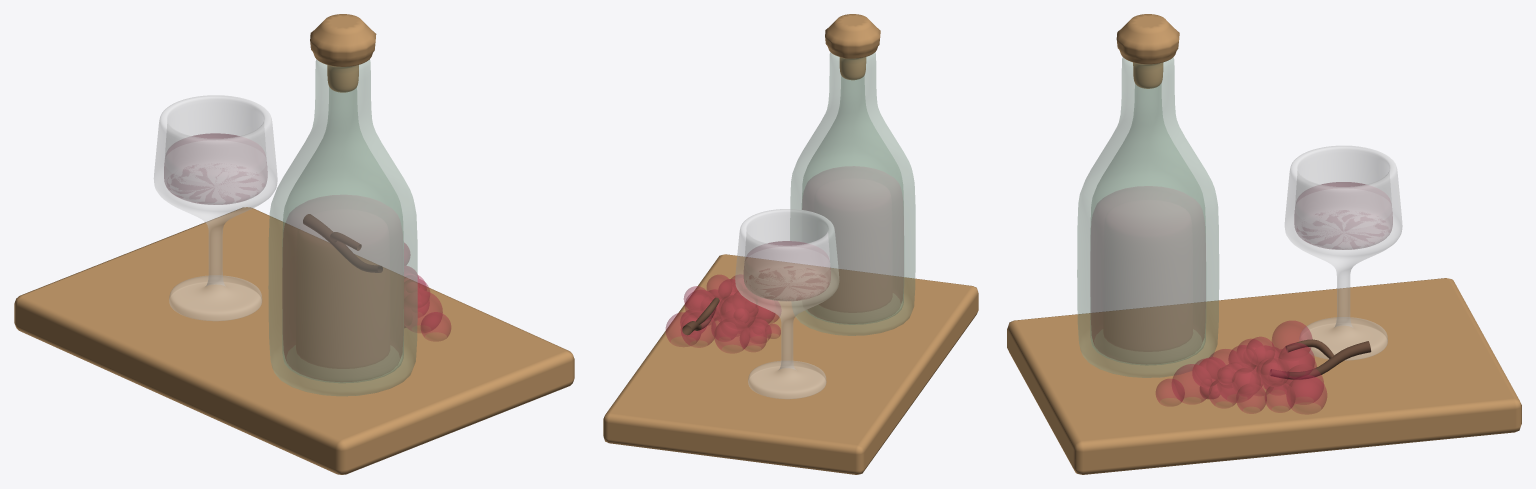
Rendered from wine.glb.
The picture shows the model from 3 angles, left to right: view 1: azimuth 30°, elevation 25°; view 2: azimuth 150°, elevation 25°; view 3: azimuth 270°, elevation 25°; orthographic projection. The views are drawn at different scales.
Parts seen in each view (by area): view 1: Plane, Circle.001, Circle.004, Glass, WineInGlass, Bottle, Grapes, Vert; view 2: Plane, Circle.001, Glass, Circle.004, Grapes, WineInGlass, Bottle, Vert; view 3: Plane, Circle.001, Circle.004, Glass, Grapes, WineInGlass, Bottle, Vert.
Part boxes in pixels (x1=…): Plane: x1=14, y1=207, x2=574, y2=474; Circle.001: x1=268, y1=60, x2=417, y2=396; Circle.004: x1=282, y1=195, x2=403, y2=373; Glass: x1=154, y1=95, x2=277, y2=320; WineInGlass: x1=164, y1=133, x2=267, y2=204; Bottle: x1=310, y1=14, x2=376, y2=92; Grapes: x1=404, y1=243, x2=450, y2=341; Vert: x1=303, y1=214, x2=382, y2=272; Plane: x1=603, y1=254, x2=978, y2=474; Circle.001: x1=790, y1=52, x2=915, y2=335; Glass: x1=735, y1=209, x2=839, y2=398; Circle.004: x1=802, y1=166, x2=903, y2=318; Grapes: x1=666, y1=274, x2=781, y2=353; WineInGlass: x1=744, y1=241, x2=830, y2=300; Bottle: x1=825, y1=14, x2=880, y2=80; Vert: x1=682, y1=297, x2=719, y2=335; Plane: x1=1007, y1=278, x2=1521, y2=474; Circle.001: x1=1077, y1=57, x2=1218, y2=377; Circle.004: x1=1090, y1=186, x2=1205, y2=361; Glass: x1=1285, y1=146, x2=1402, y2=360; Grapes: x1=1156, y1=321, x2=1326, y2=414; WineInGlass: x1=1294, y1=182, x2=1392, y2=249; Bottle: x1=1116, y1=14, x2=1179, y2=88; Vert: x1=1269, y1=339, x2=1371, y2=379.
Size of what is drawn, in the model's own units: 2.6 by 2.61 by 3.33.
